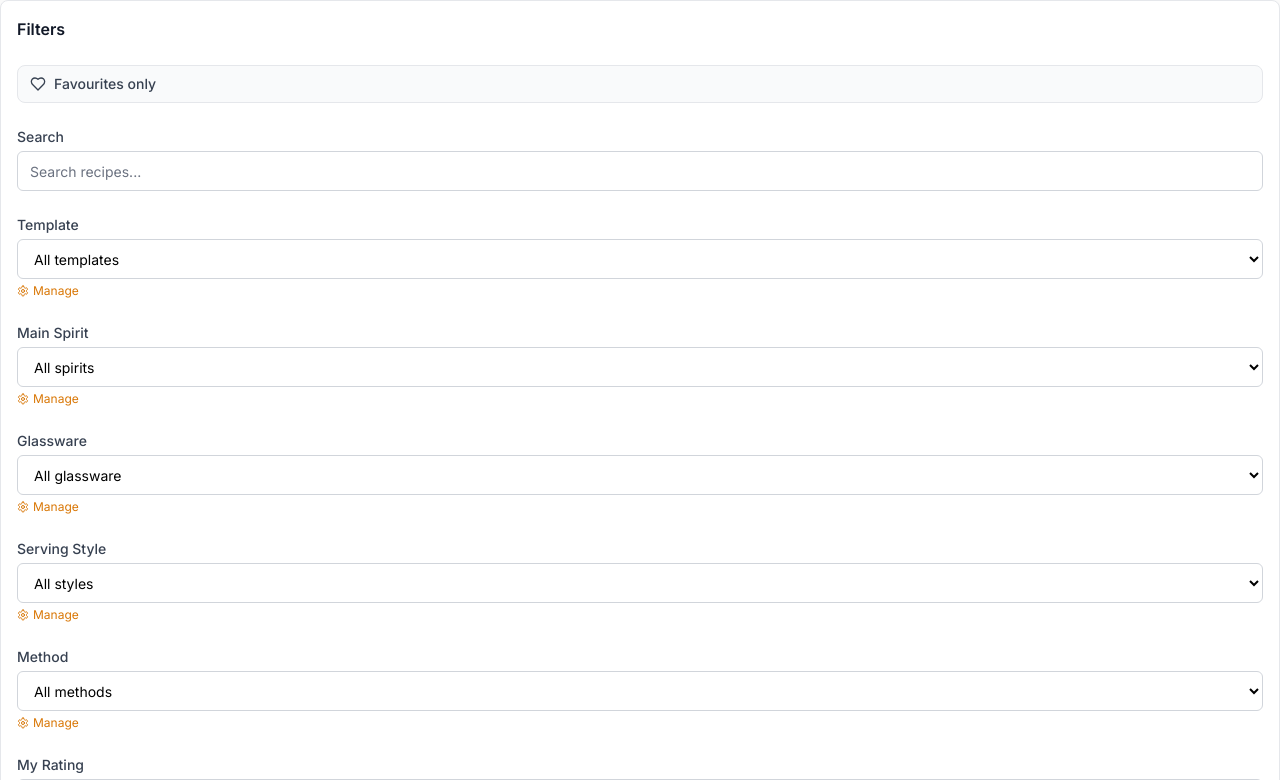
Test: FilterSidebar - Admin Manage Links › clicking Manage opens CategoryManagementModal
expect the text "Template" is shown: met, box [17,216,79,233]
Click the button "Manage" below "Template" at coordinates (48, 291), box [17,283,79,299]
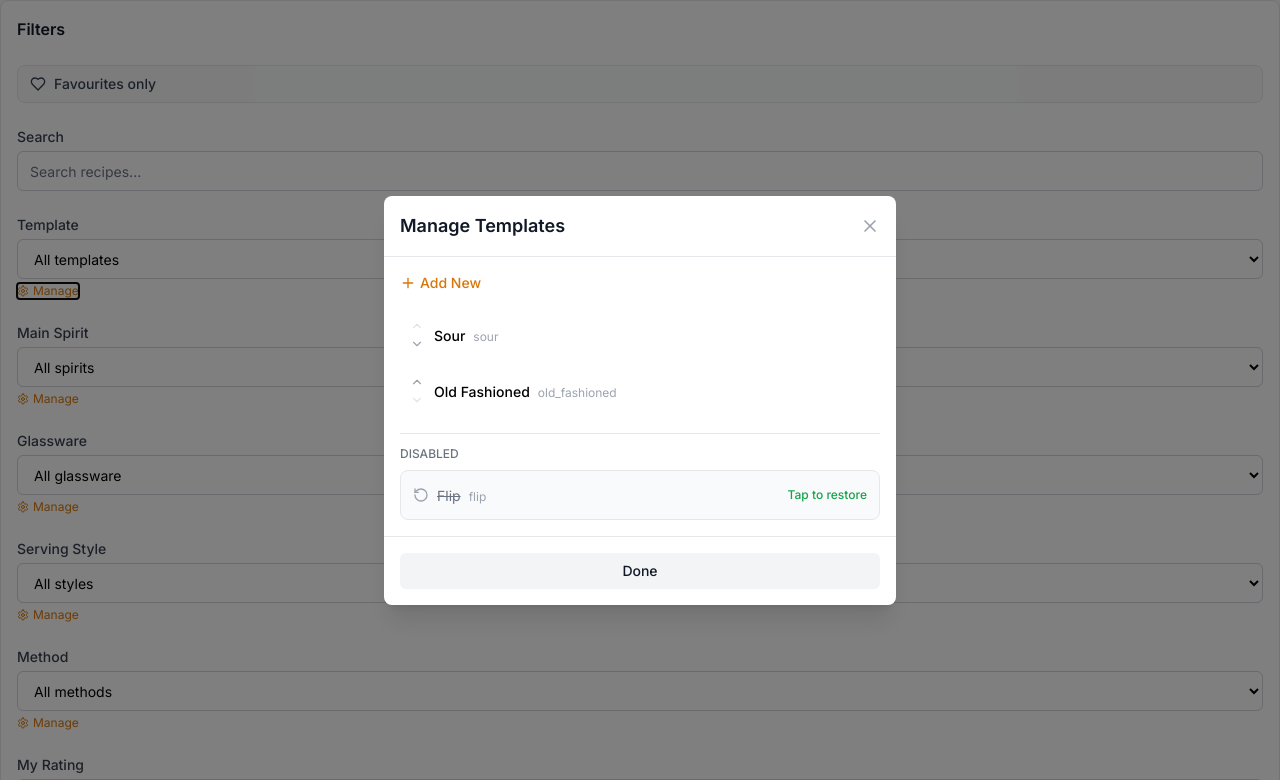
expect the heading "Manage Templates" is shown: met, box [400,212,565,240]
